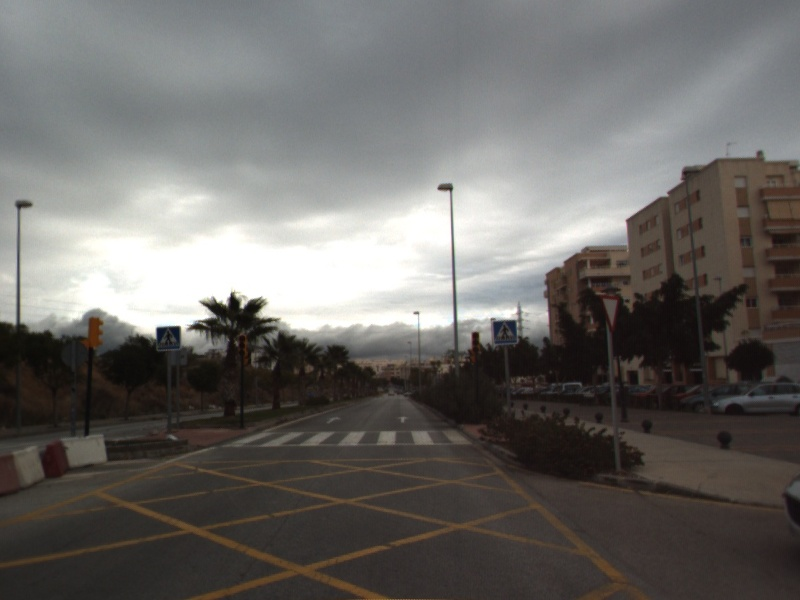STRAIGHT: (324, 415, 343, 425), (395, 414, 411, 424)
